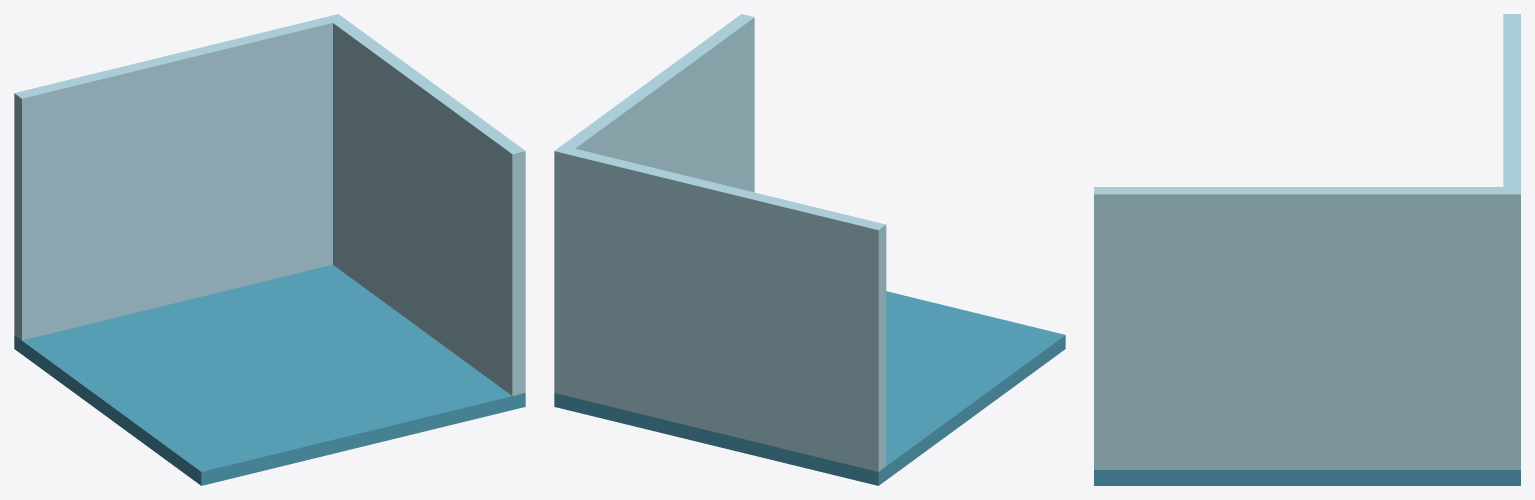
Rendered from room8.glb.
3 views of the same model, side by side, from view 1: azimuth 30°, elevation 25°; view 2: azimuth 150°, elevation 25°; view 3: azimuth 270°, elevation 25° (orthographic). The views are drawn at different scales.
Visible parts, largest first — view 1: room8; view 2: room8; view 3: room8.
Boxes of the visible parts, x1,y1,x2,y2 form: room8: (14,14,525,485); room8: (554,14,1065,485); room8: (1094,14,1520,485).
Bounding box in the file's own units: 3.65 × 2.75 × 3.65.
